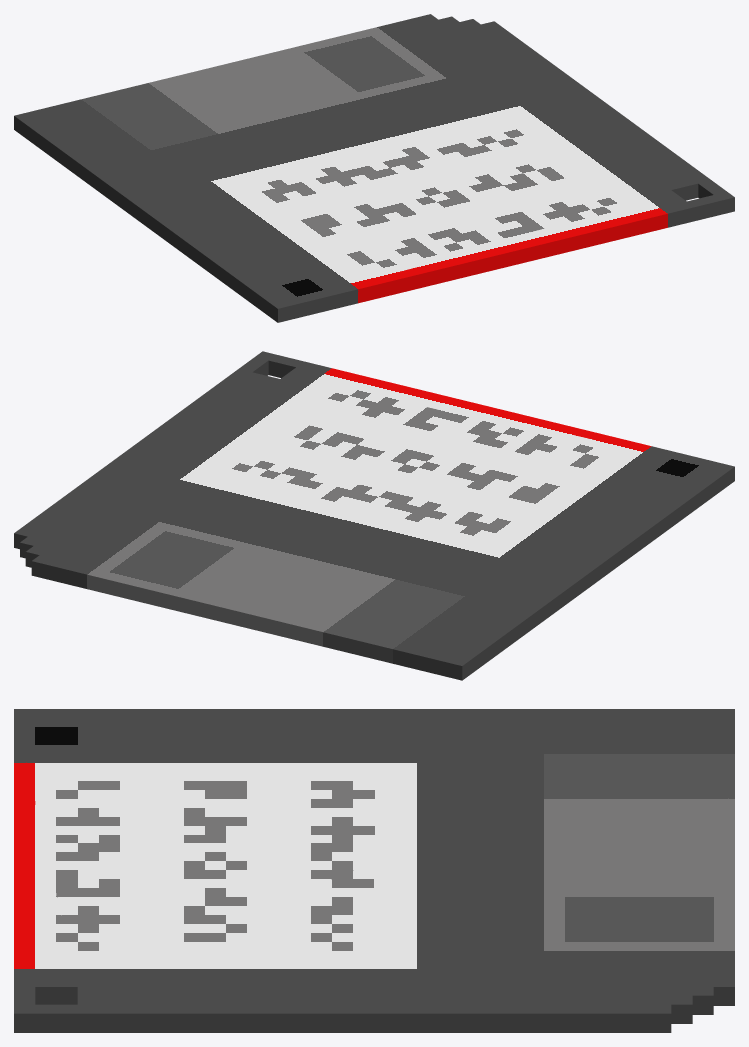
File: disk.dae
3 views of the same model, one above another, from view 1: azimuth 30°, elevation 25°; view 2: azimuth 150°, elevation 25°; view 3: azimuth 270°, elevation 25° (orthographic). The views are drawn at different scales.
Parts seen in each view (by area): view 1: disk; view 2: disk; view 3: disk.
Boxes of the visible parts, x1=… form: disk: x1=14, y1=14, x2=734, y2=322; disk: x1=14, y1=351, x2=734, y2=680; disk: x1=14, y1=709, x2=734, y2=1032.
Size of the model in its own units: 3.4 by 0.1 by 3.4.
1 material, 1 textured.
